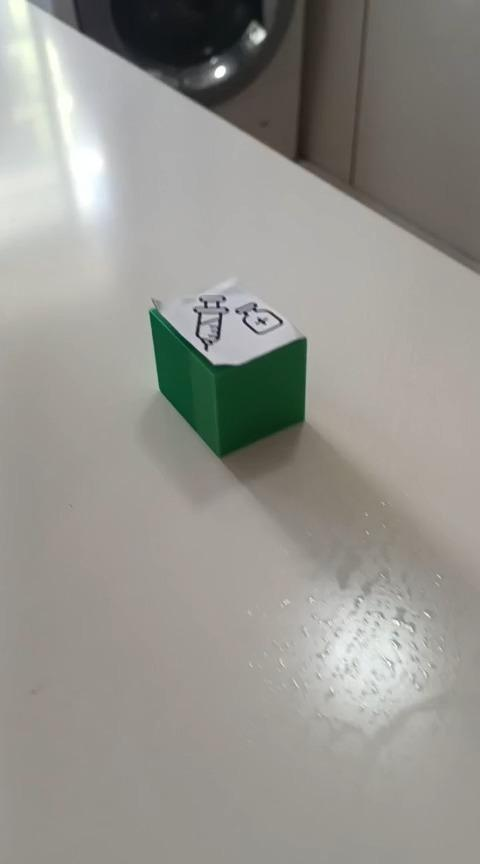antiseptic cream: (147, 275, 308, 458)
